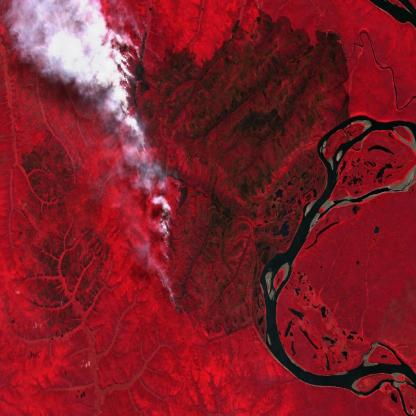fire: (115, 23, 170, 183), (151, 192, 179, 256)
